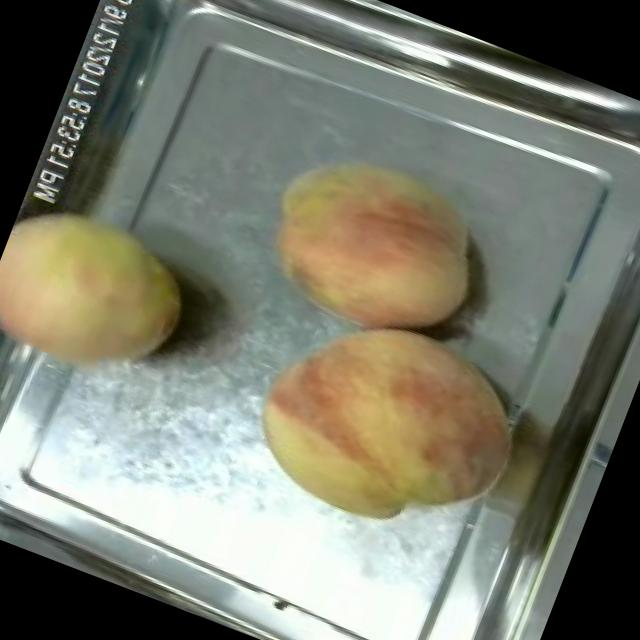Fruit: (225, 276, 548, 572), (236, 122, 510, 370), (0, 181, 213, 406)
